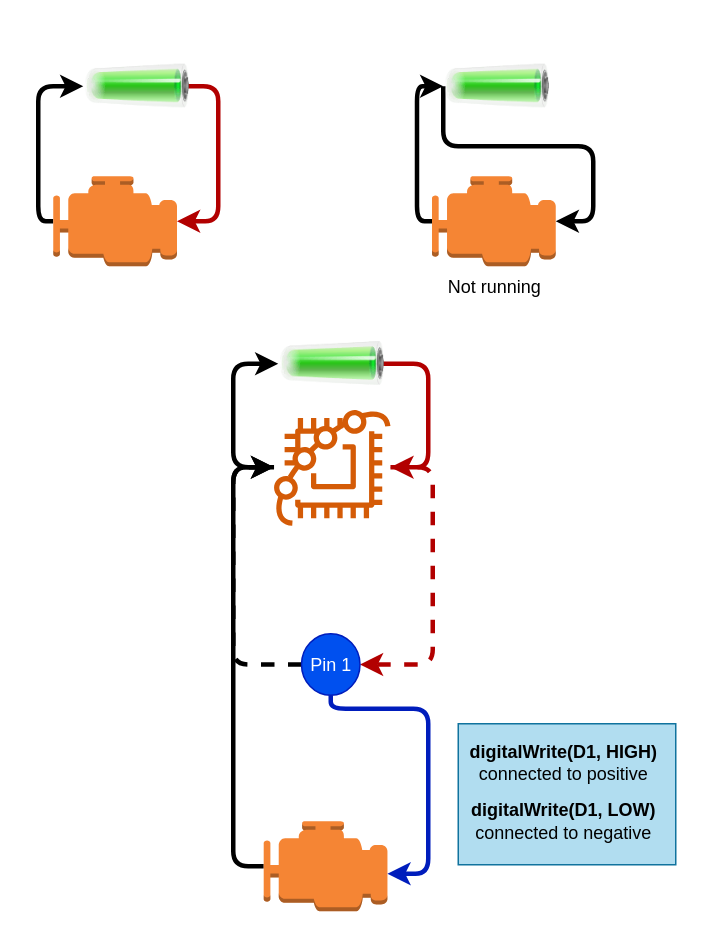
Some shapes in this 702 by 938 pixel diagram are drawn without their labels. Here are the shapes that lost their labels. From the top down, the centre of each, then its label:
the point at 114,220: Running
the point at 331,466: Chip
